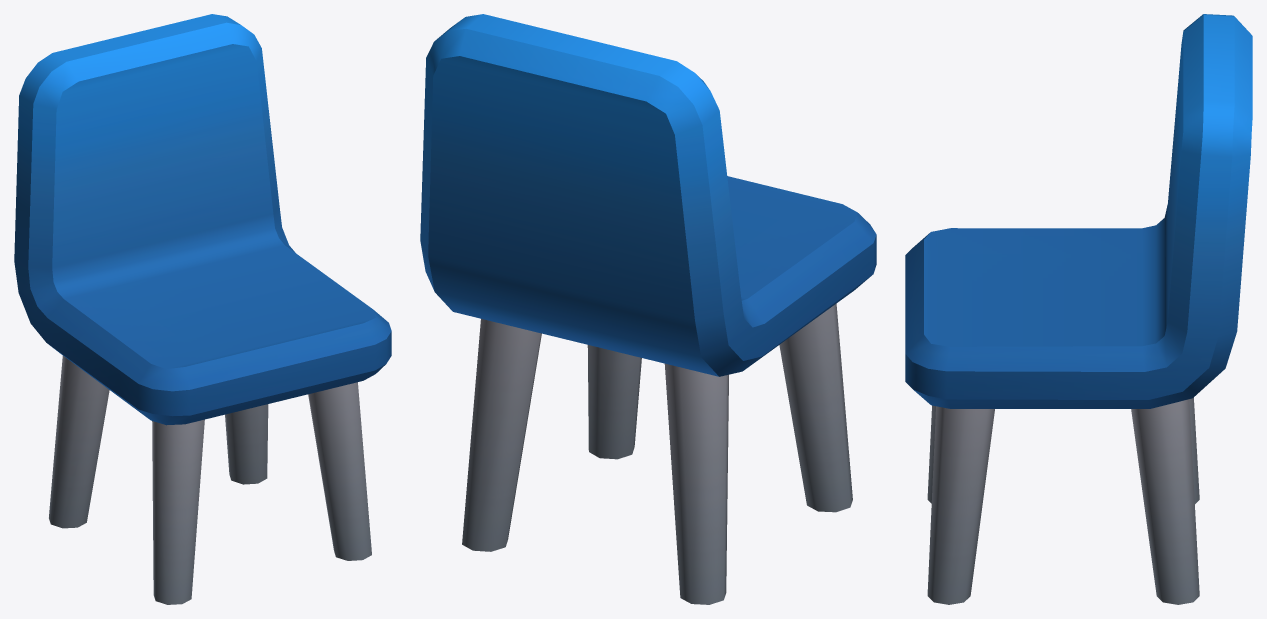
Rendered from Chair_2_C.glb.
3 renders of one model, left to right at view 1: azimuth 30°, elevation 25°; view 2: azimuth 150°, elevation 25°; view 3: azimuth 270°, elevation 25°, orthographic. The views are drawn at different scales.
Visible parts, largest first — view 1: Chair_2_C; view 2: Chair_2_C; view 3: Chair_2_C.
Boxes of the visible parts, box(x1,y1,x2,y2) form: Chair_2_C: box(14, 14, 391, 604); Chair_2_C: box(420, 14, 876, 604); Chair_2_C: box(905, 14, 1252, 604).
Size of the model in its own units: 0.5407 by 0.9189 by 0.5902.
Materials: 2 (2 with a texture image).
